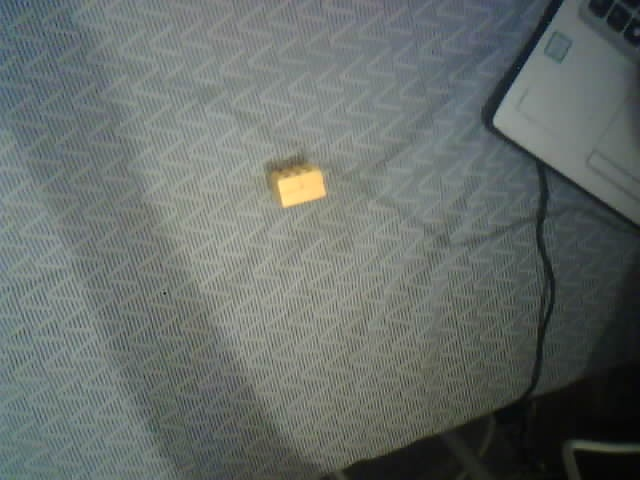lego: (269, 163, 327, 209)
